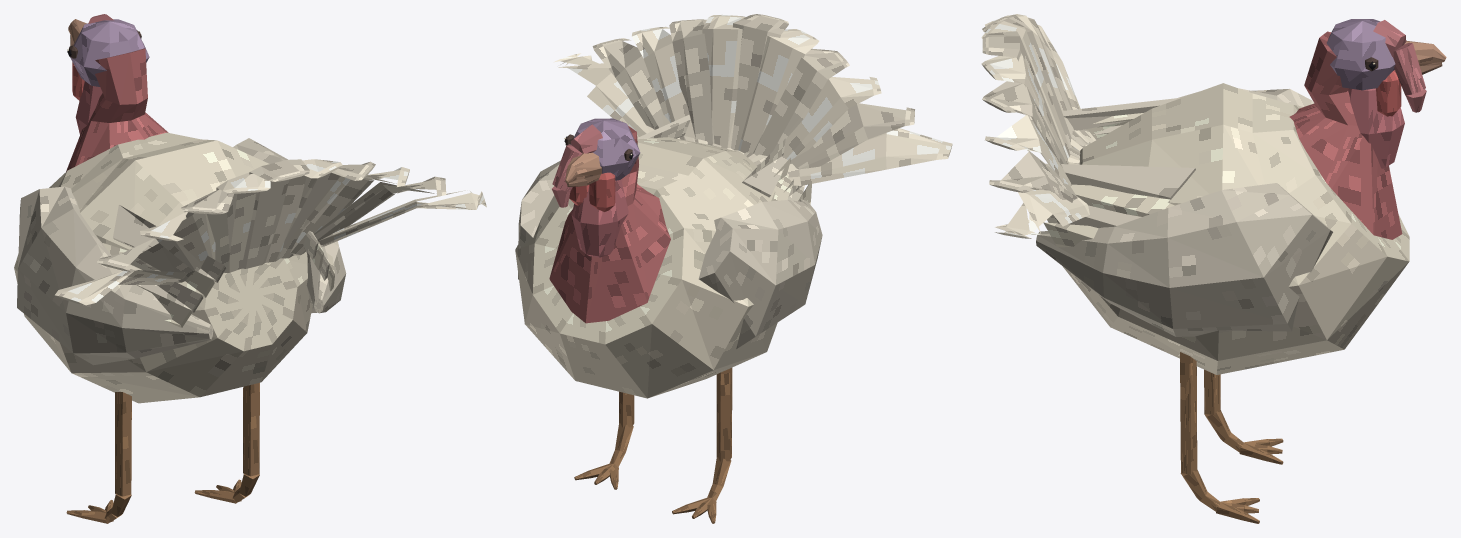
File: mon_turkey_domestic.glb
3 views of the same model, side by side, from view 1: azimuth 30°, elevation 25°; view 2: azimuth 150°, elevation 25°; view 3: azimuth 270°, elevation 25° (orthographic). The views are drawn at different scales.
Parts seen in each view (by area): view 1: closed_body; view 2: closed_body; view 3: closed_body.
Boxes of the visible parts, box(x1,y1,x2,y2) form: closed_body: box(14, 14, 486, 523); closed_body: box(515, 14, 952, 523); closed_body: box(981, 14, 1446, 523).
Bounding box in the file's own units: 0.5787 × 0.577 × 0.5249.
1 material, 1 textured.
